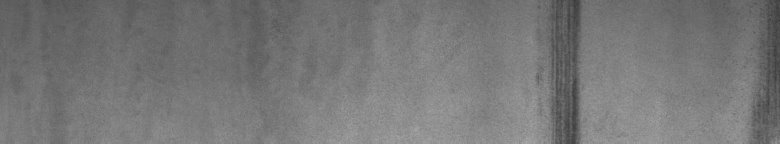ka: (536, 4, 587, 136)
